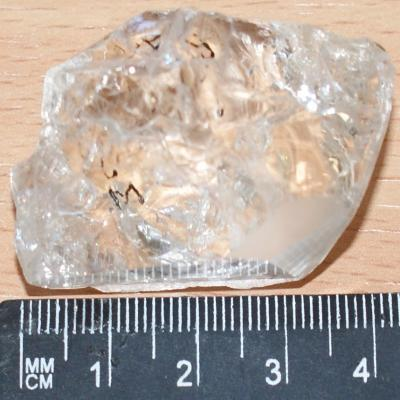mineralogy: (9, 8, 395, 293)
